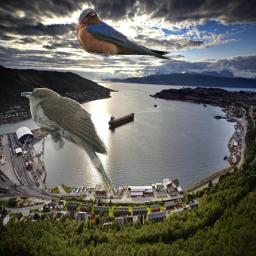Cuckoo: (21, 88, 116, 196)
Swallow: (75, 8, 181, 62)
